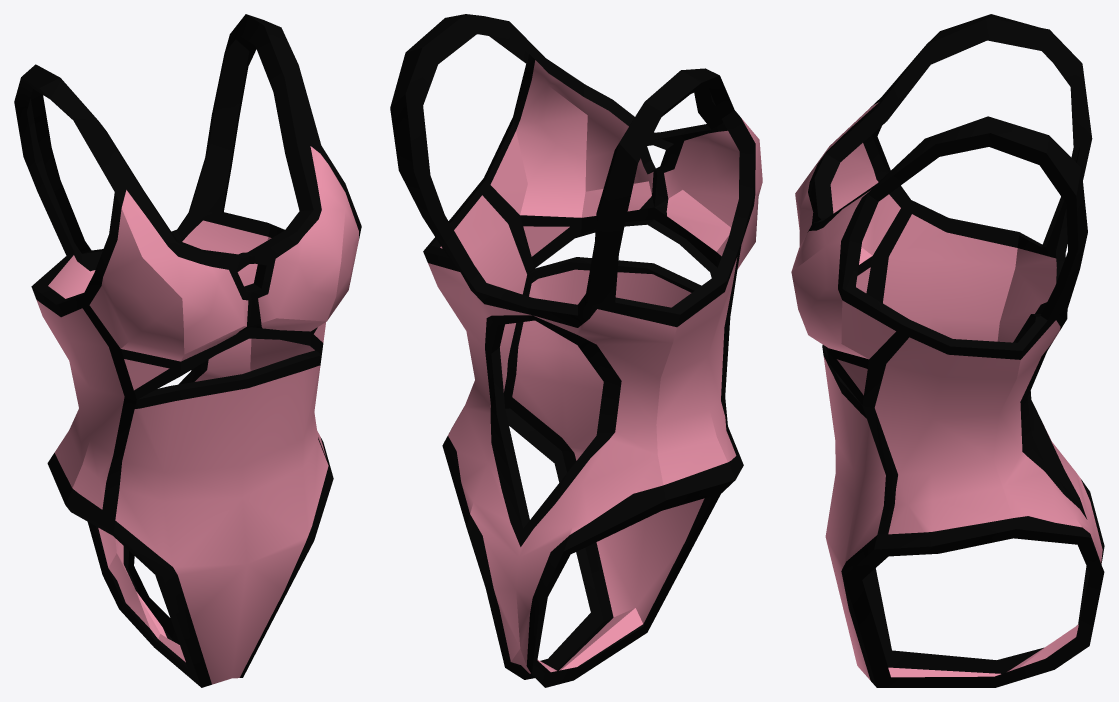
Rendered from UnderwearSam.fbx.
3 views of the same model, side by side, from view 1: azimuth 30°, elevation 25°; view 2: azimuth 150°, elevation 25°; view 3: azimuth 270°, elevation 25° (orthographic). The views are drawn at different scales.
Visible parts, largest first — view 1: UnderwearSam; view 2: UnderwearSam; view 3: UnderwearSam.
Part boxes in pixels (x1,y1,x2,y2): UnderwearSam: [14, 14, 361, 687]; UnderwearSam: [390, 14, 762, 687]; UnderwearSam: [791, 14, 1104, 687].
Bounding box in the file's own units: 27.82 × 61.57 × 28.45.
